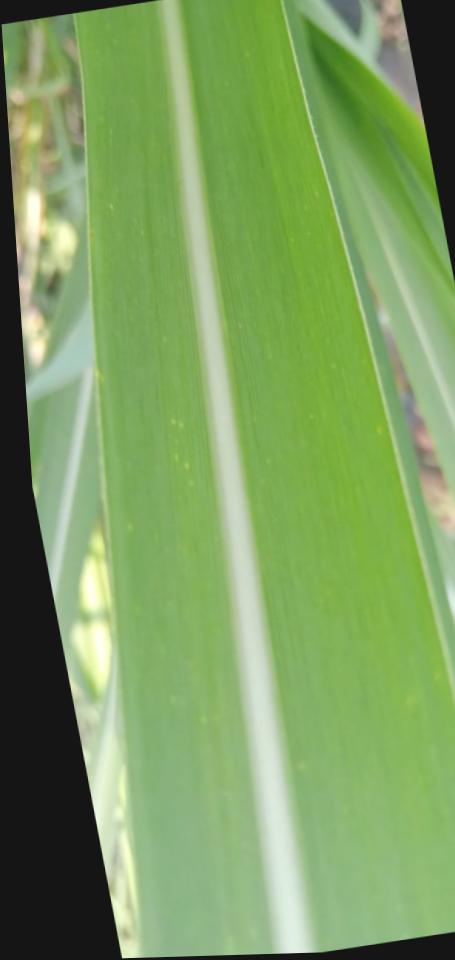Healthy: (183, 0, 455, 953), (77, 2, 274, 958)
